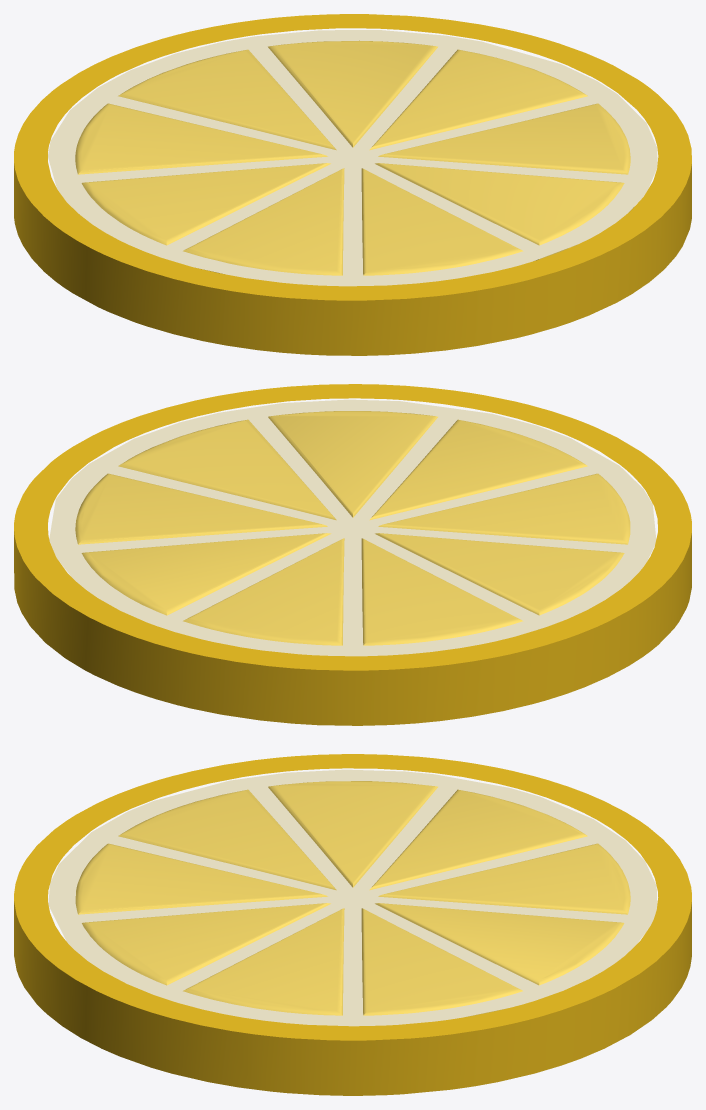
The model's file is lemon.glb.
3 renders of one model, top to bottom at view 1: azimuth 30°, elevation 25°; view 2: azimuth 150°, elevation 25°; view 3: azimuth 270°, elevation 25°, orthographic.
Visible parts, largest first — view 1: lemon; view 2: lemon; view 3: lemon.
Part boxes in pixels (x1,y1,x2,y2): lemon: (14,14,691,355); lemon: (14,384,691,725); lemon: (14,754,691,1095).
Size of the model in its own units: 2 by 0.186 by 2.
